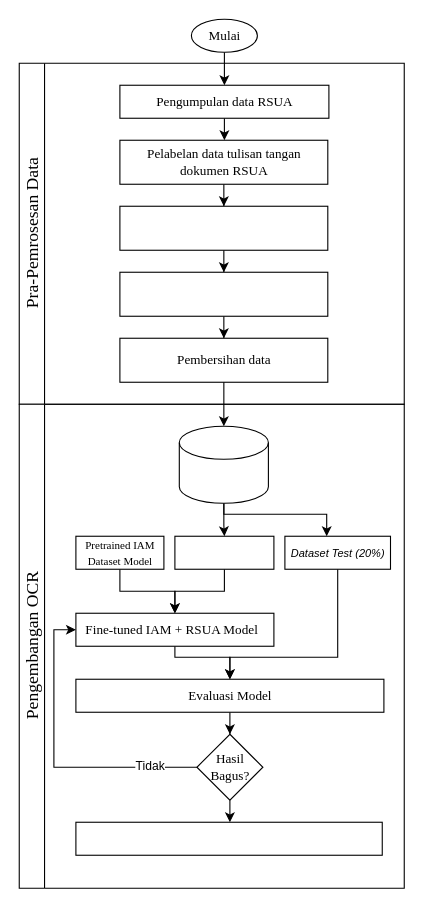
Image size: 424x908. Some labels were removed from this diagram. The centre of each missing label's shape, as x and y in pixels:
"Augmentasi data tulisan tangan" goes at (x=223, y=227).
"Dataset Training (80%)" goes at (x=224, y=552).
"Dataset Tulisan Tangan RSUA" goes at (x=223, y=464).
"Model OCR final" goes at (x=228, y=838).
"Pencarian Region of Interest" goes at (x=223, y=293).
